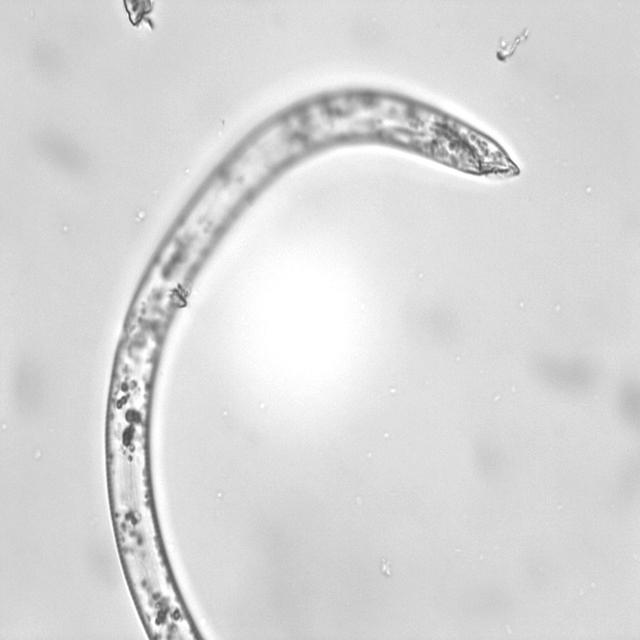Helicotylenchus: (93, 80, 531, 640)
